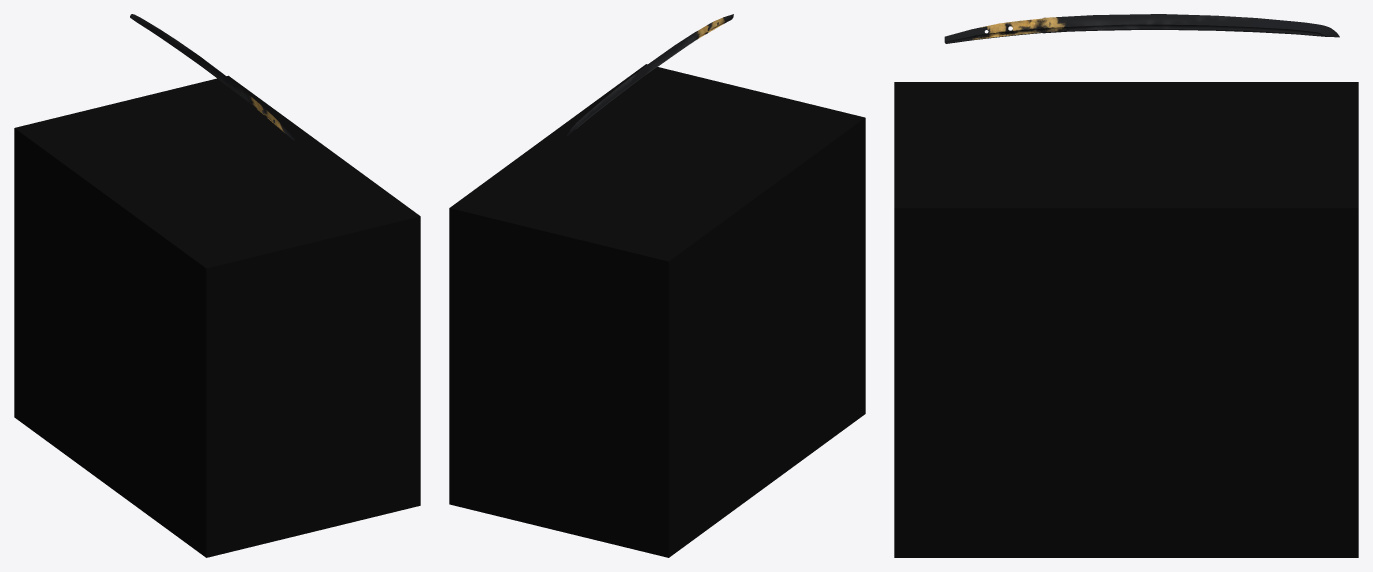
Rendered from webvrkatana.gltf.
The picture shows the model from 3 angles, left to right: view 1: azimuth 30°, elevation 25°; view 2: azimuth 150°, elevation 25°; view 3: azimuth 270°, elevation 25°; orthographic projection. The views are drawn at different scales.
Parts seen in each view (by area): view 1: Cube.002, Plane; view 2: Cube.002, Plane; view 3: Cube.002, Plane.
Boxes of the visible parts, box(x1,y1,x2,y2) form: Cube.002: box(14, 75, 420, 557); Plane: box(130, 14, 294, 141); Cube.002: box(449, 64, 865, 557); Plane: box(566, 14, 733, 136); Cube.002: box(894, 82, 1358, 557); Plane: box(944, 14, 1339, 43).
Size of the model in its own units: 8.6 by 15.19 by 13.35.
Materials: 2 (1 with a texture image).
